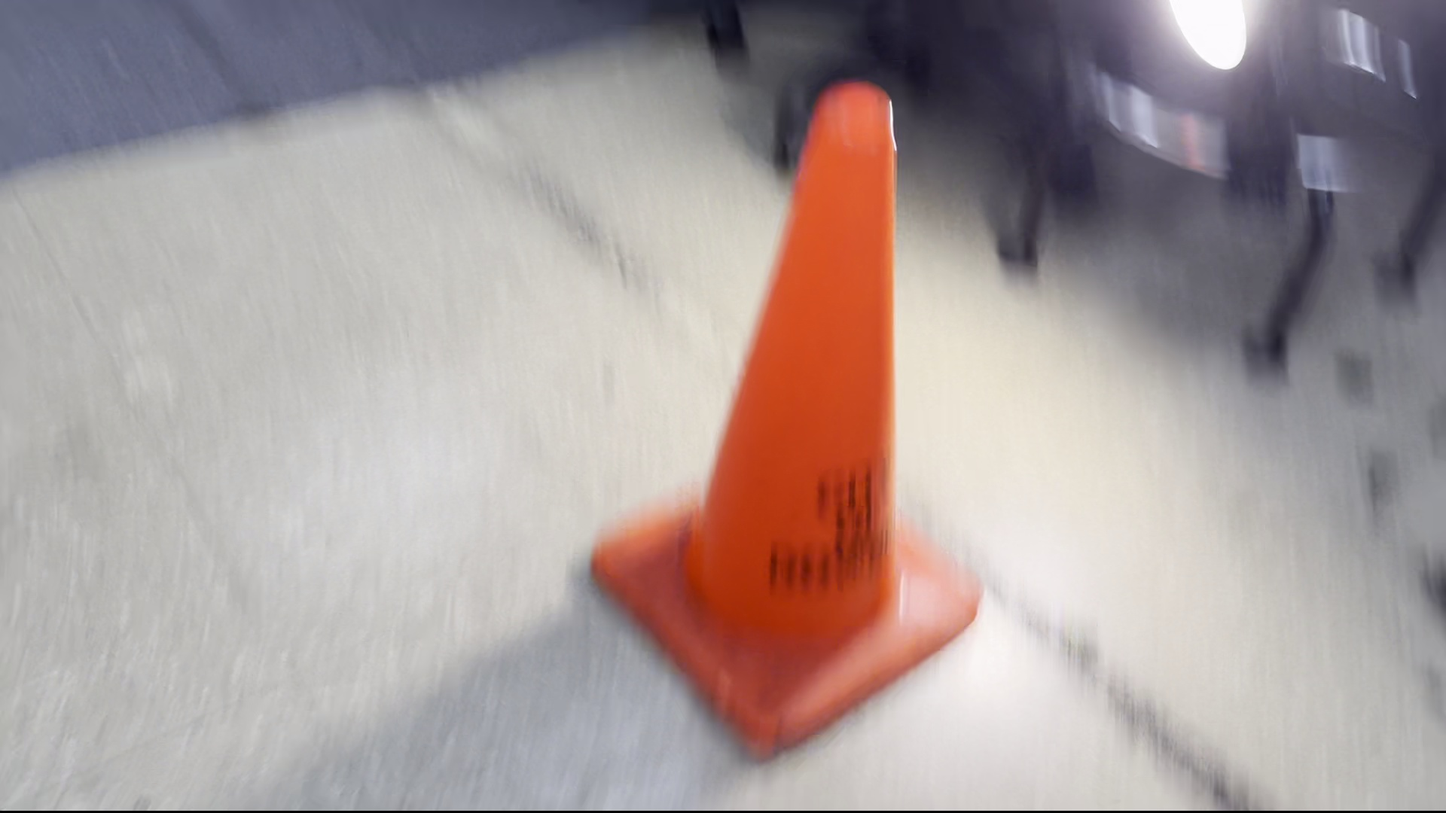traffic_cone: (589, 78, 984, 763)
